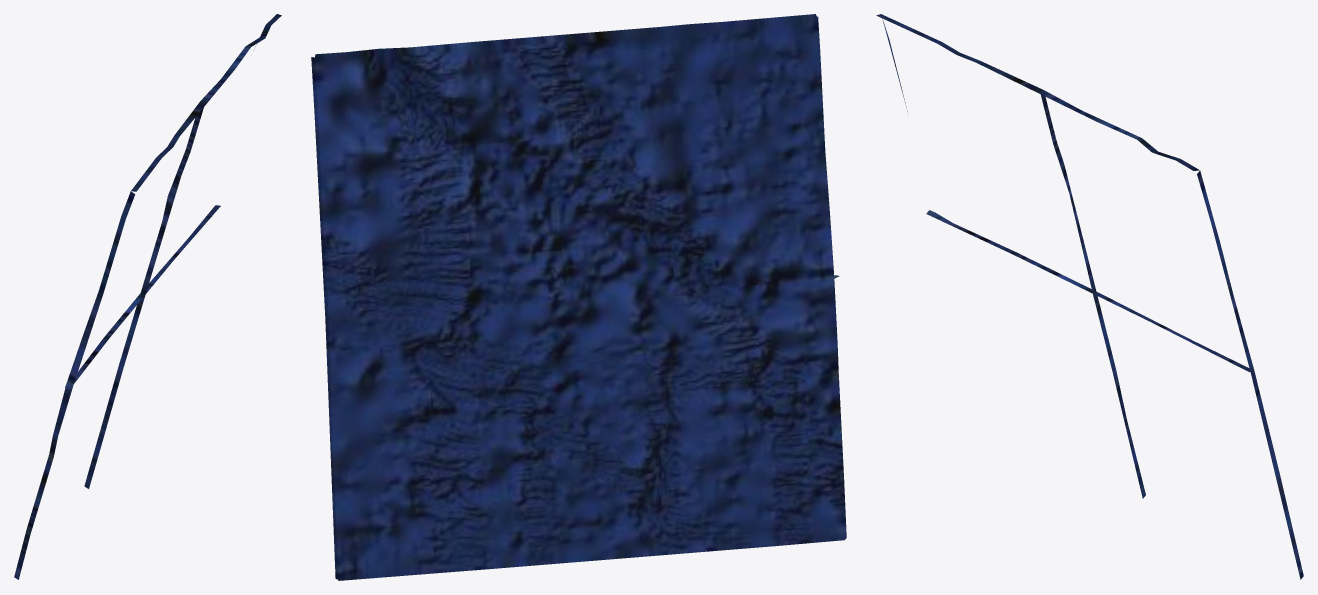
3 renders of one model, left to right at view 1: azimuth 30°, elevation 25°; view 2: azimuth 150°, elevation 25°; view 3: azimuth 270°, elevation 25°, orthographic. The views are drawn at different scales.
Size of the model in its own units: 286902 by 304185 by 264357.
1 material, 1 textured.
